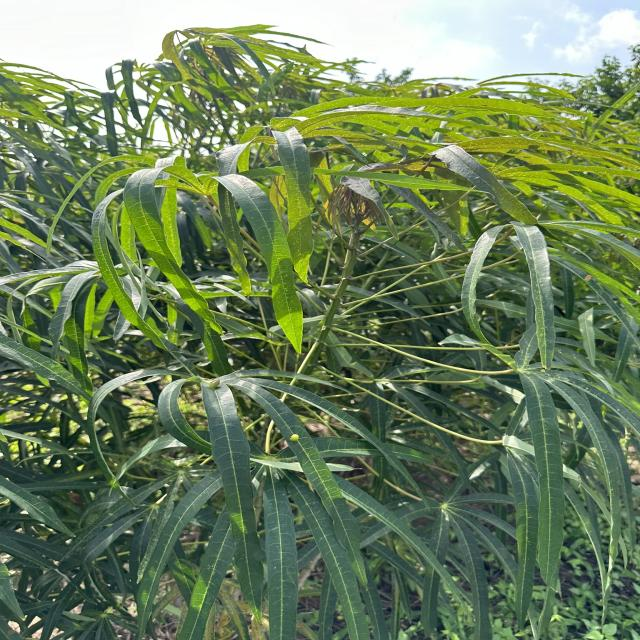Mosca: (283, 423, 306, 454), (61, 528, 85, 554), (71, 460, 93, 481), (120, 522, 139, 543), (440, 502, 457, 525), (199, 374, 223, 390), (482, 287, 498, 305)
